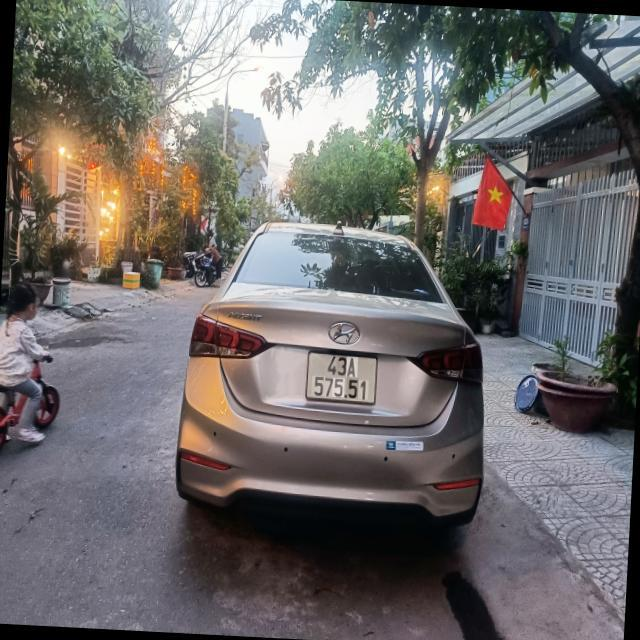car: (177, 197, 493, 545)
motorcycle: (0, 359, 55, 469)
plate: (299, 347, 384, 411)
